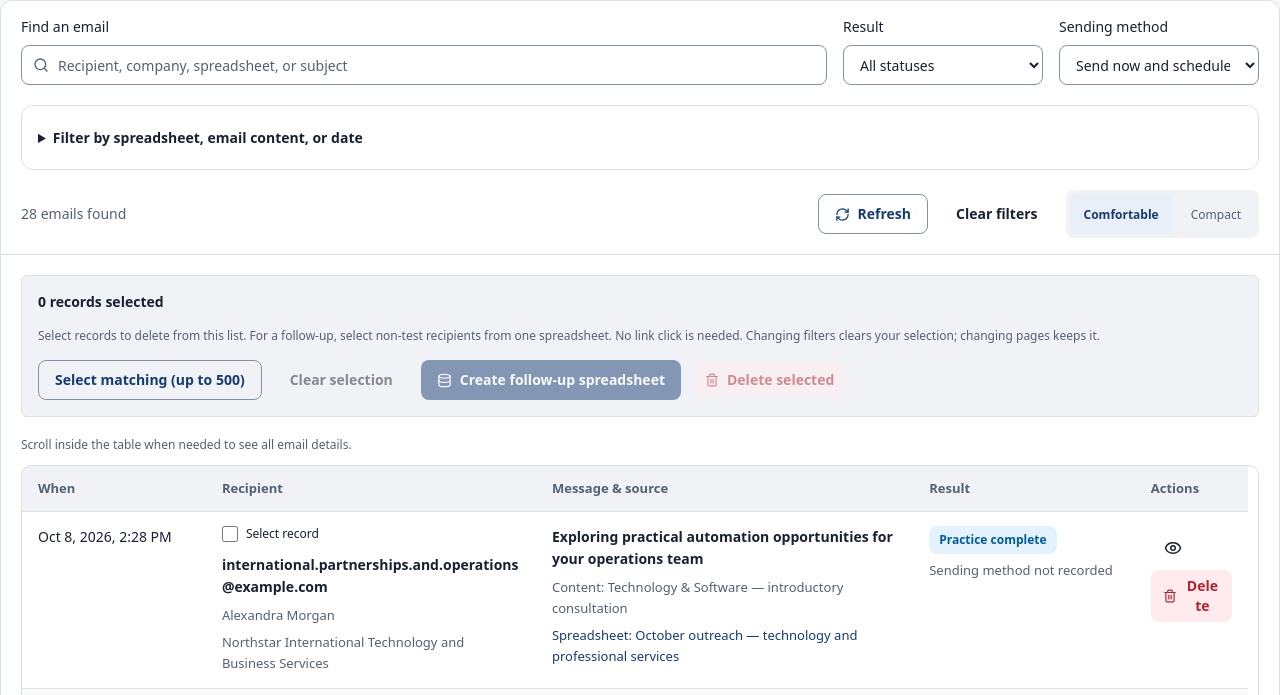
Scenario: readable history › clears selection when filters change and allows removing test results without reusing them
This screenshot has width=1280, height=695.
Click the checkbox labelled "Select record" next to "Oct 8, 2026, 2:28 PM" at {"x": 230, "y": 534}, box left=222, top=526, right=238, bottom=542
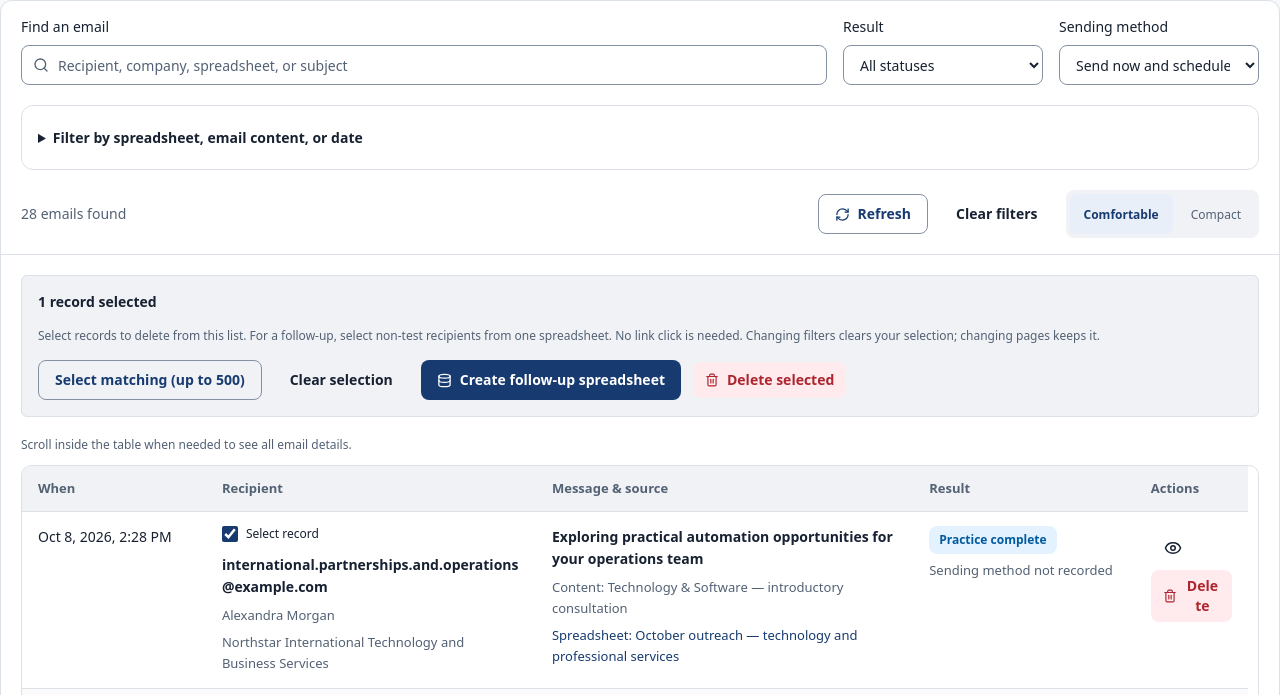
Expected: the text "1 record selected" is shown, left=38, top=292, right=157, bottom=311
Select "Accepted by Microsoft" in the dropdown named "History status" at {"x": 943, "y": 65}, box left=843, top=45, right=1043, bottom=85
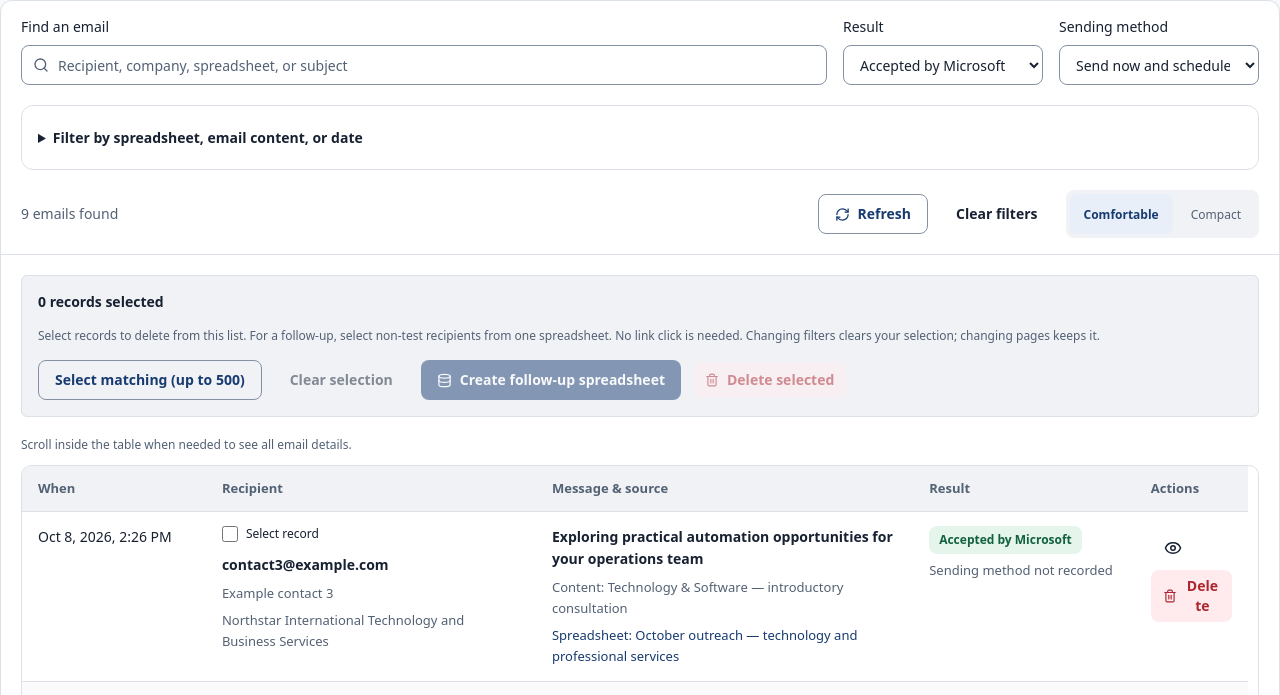
Expected: the text "0 records selected" is shown, left=38, top=292, right=164, bottom=311
